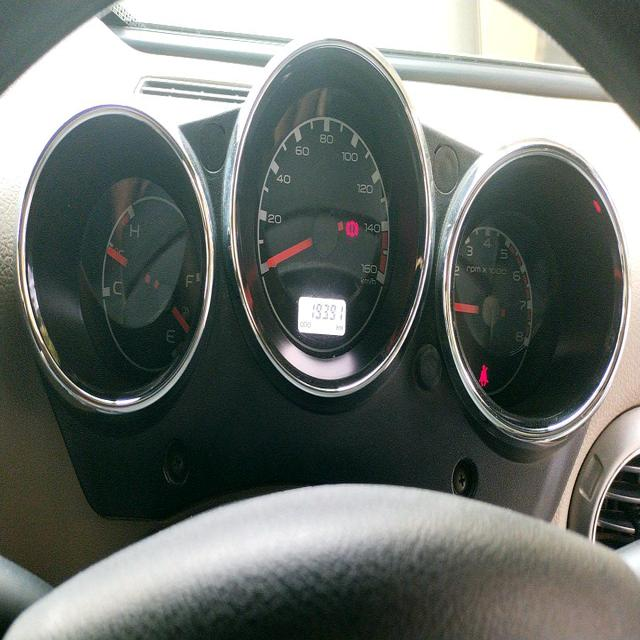odometer: (309, 298, 345, 324)
